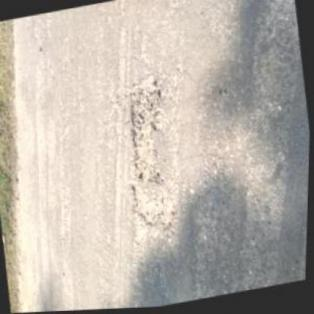Hueco: (114, 72, 181, 234)
